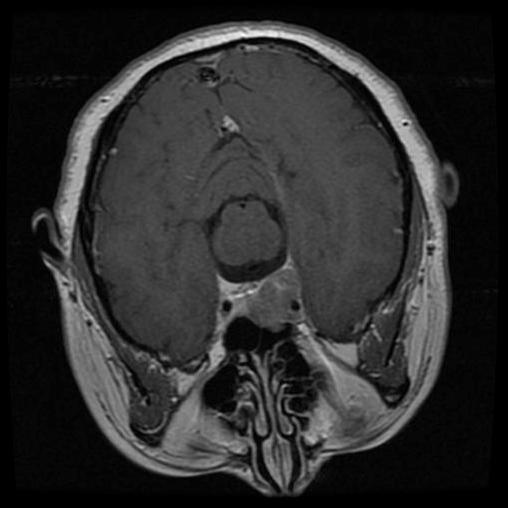Tumour-Pituitary: (213, 275, 310, 324)
